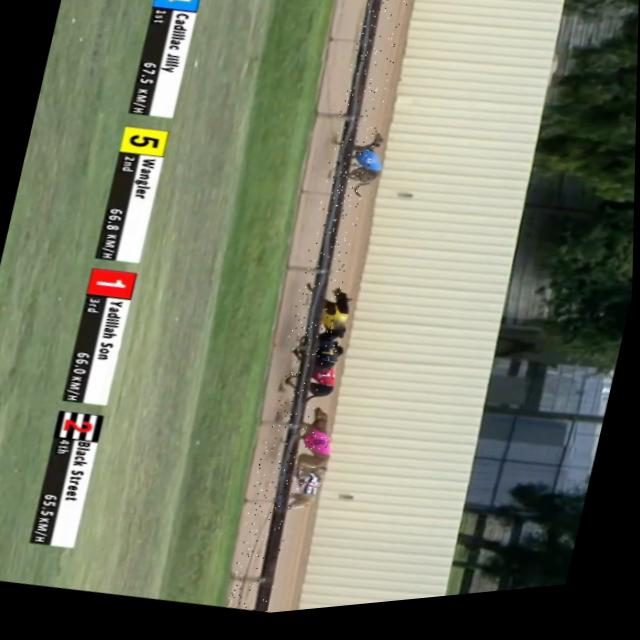dog_eight: (305, 435, 332, 460)
dog_five: (318, 315, 348, 338)
dog_four: (348, 153, 382, 180)
dog_one: (306, 370, 337, 394)
dog_seven: (307, 343, 341, 370)
dog_two: (296, 480, 324, 501)
rail: (255, 0, 383, 616)
